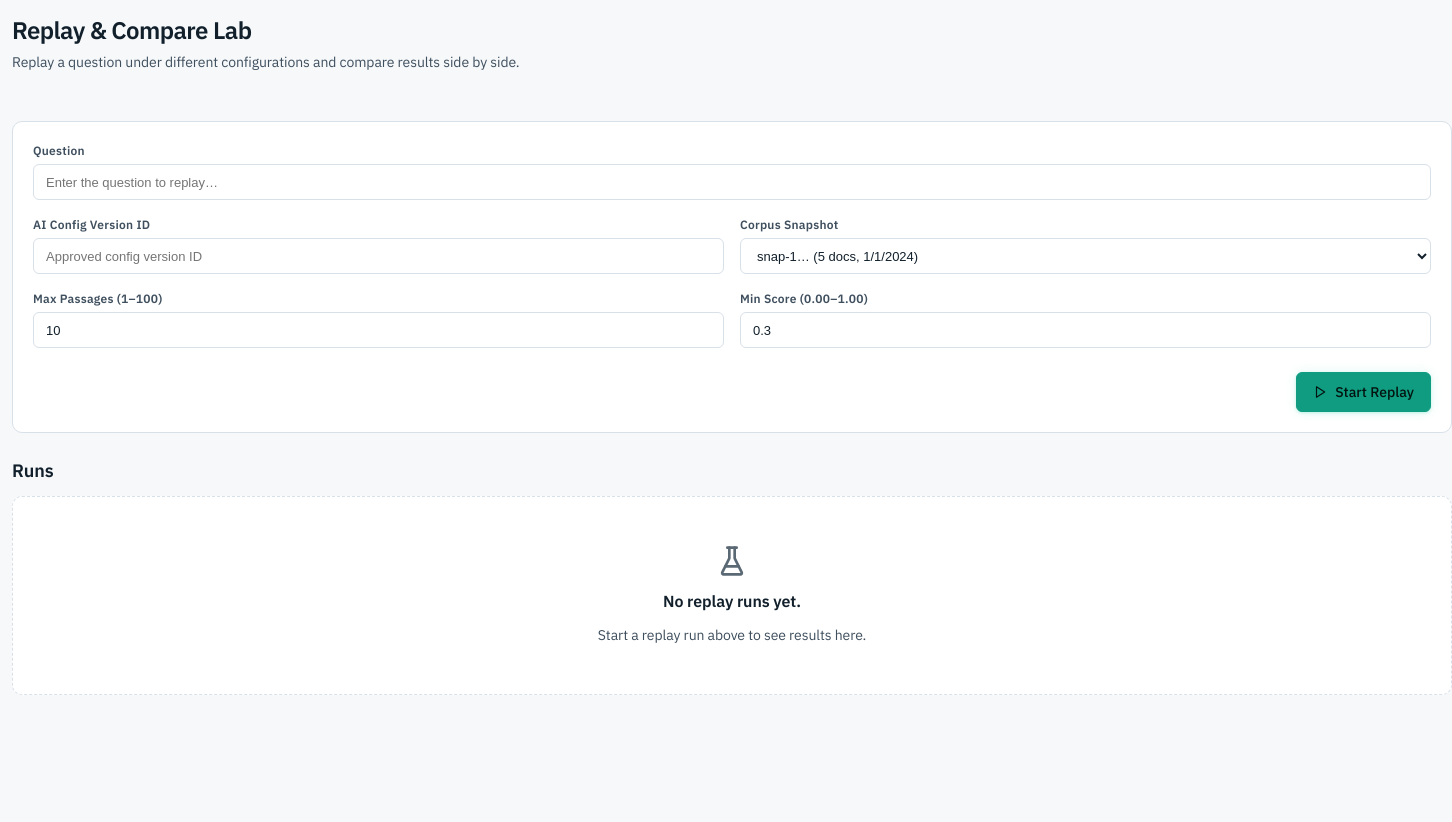
Test: ReplayLabPage › initiates a replay run and shows it in the runs list
In the field labelled "Question": point(732, 182) [33,164,1431,200], type "Test question"
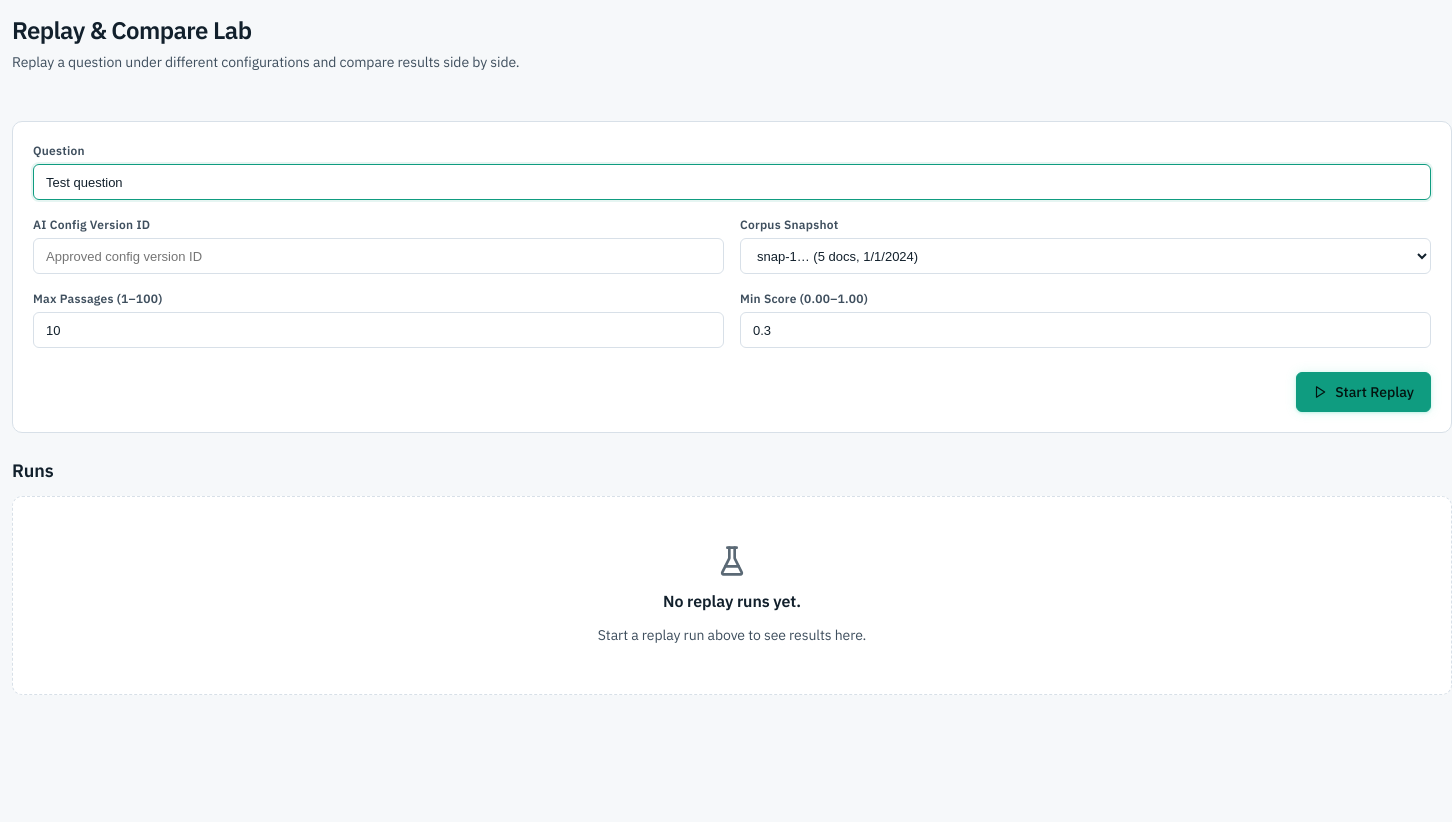
In the field labelled "AI Config Version ID": point(378, 256) [33,238,724,274], type "config-v1"
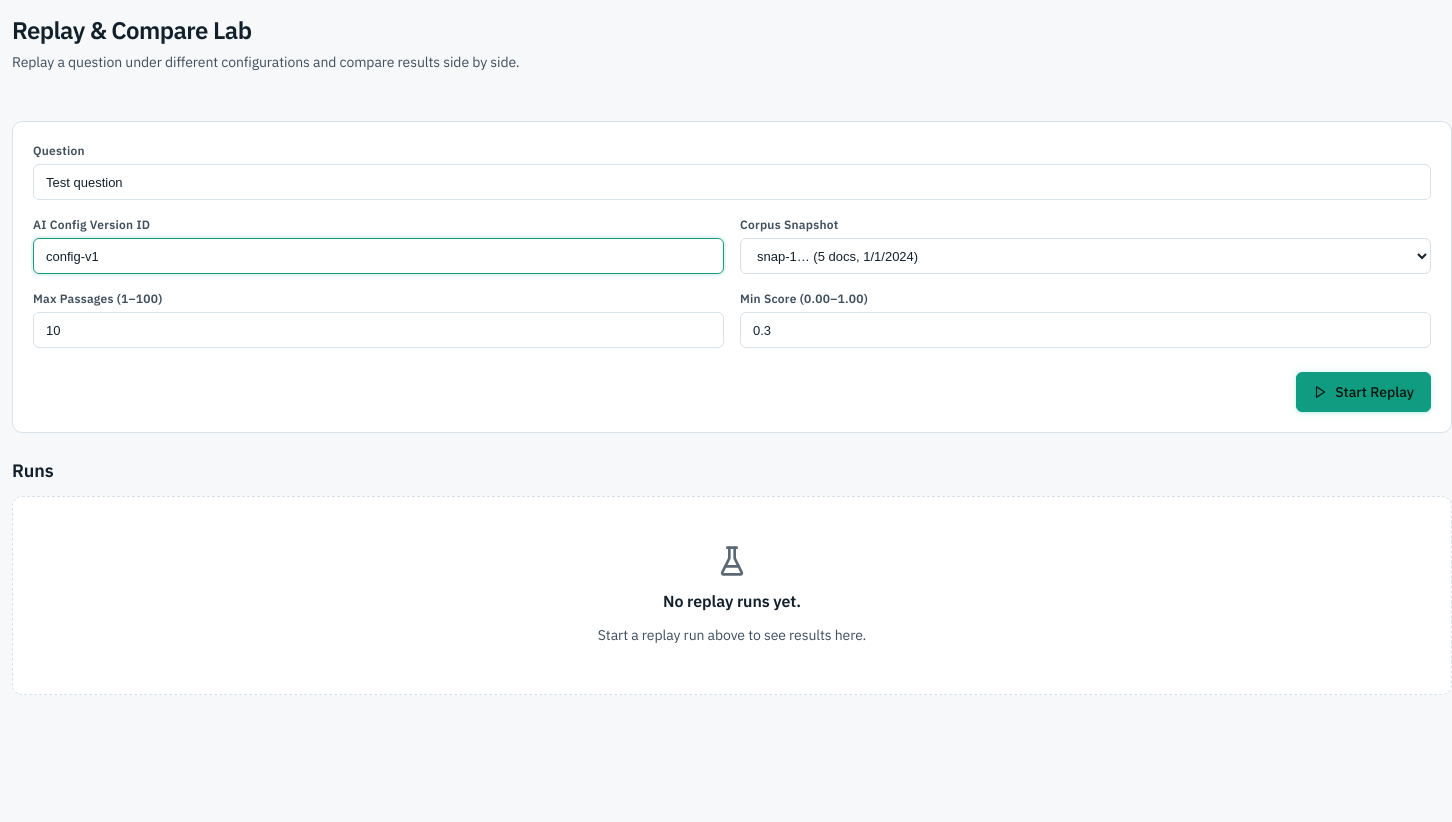
Click the button "Start Replay": point(1364, 392) [1296,372,1431,412]
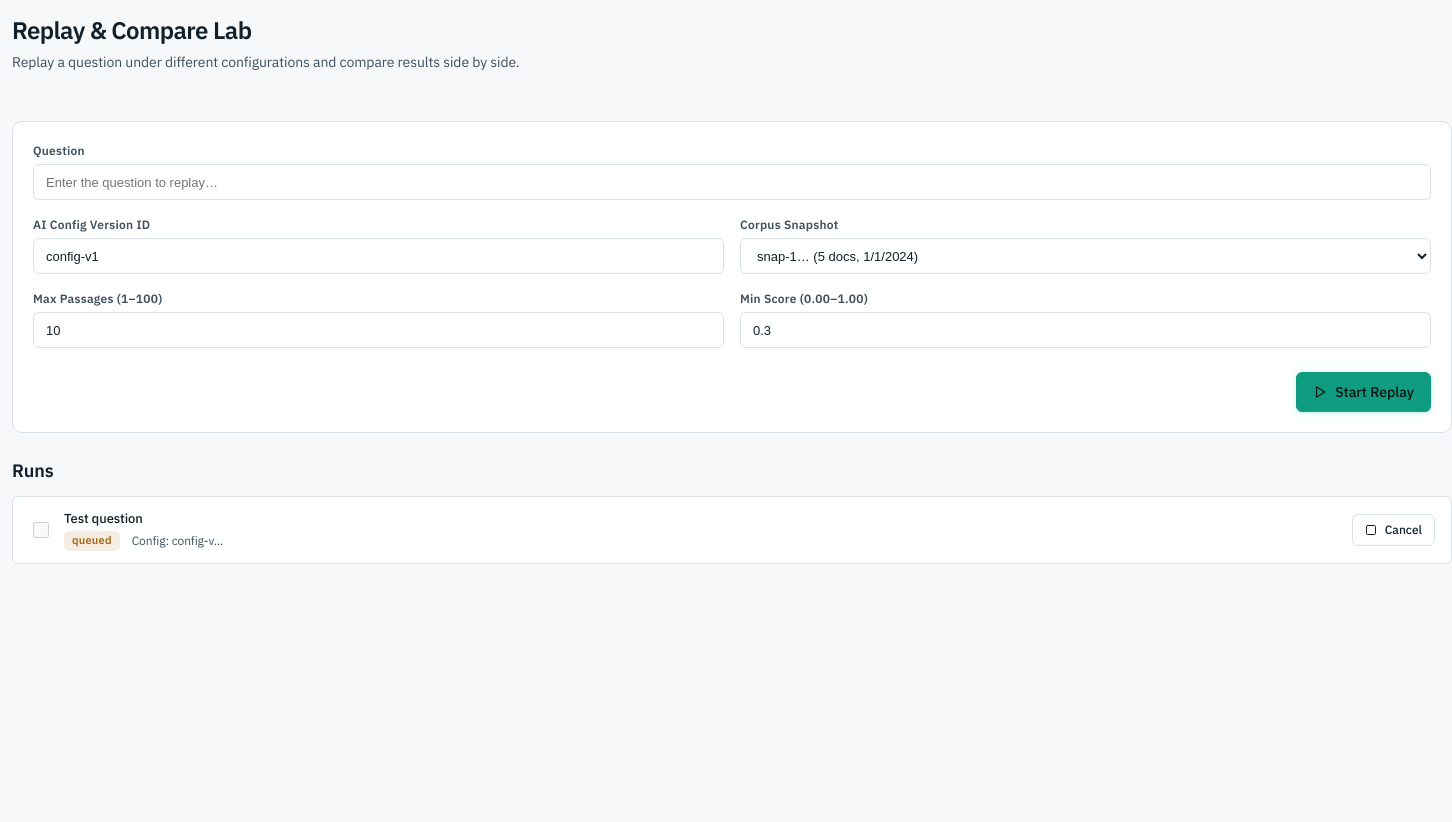
Check: the text "Test question" is shown, box [64,510,143,527]
Check: the text "queued" is shown, box [64,530,120,550]
